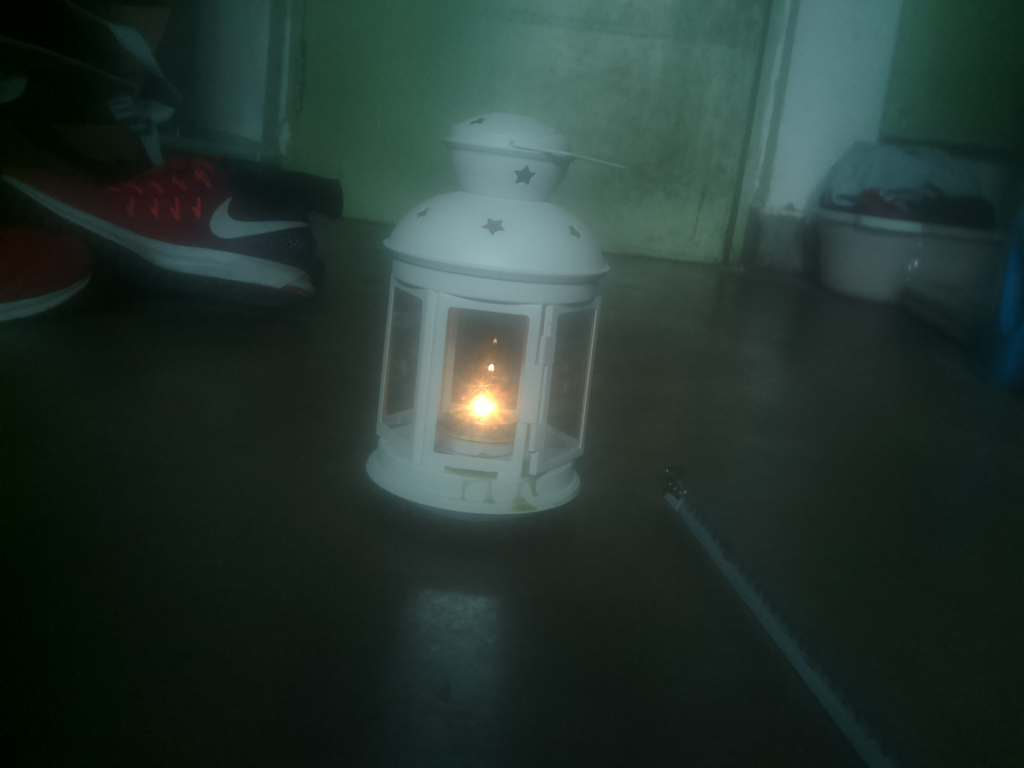fire: (452, 352, 525, 465)
